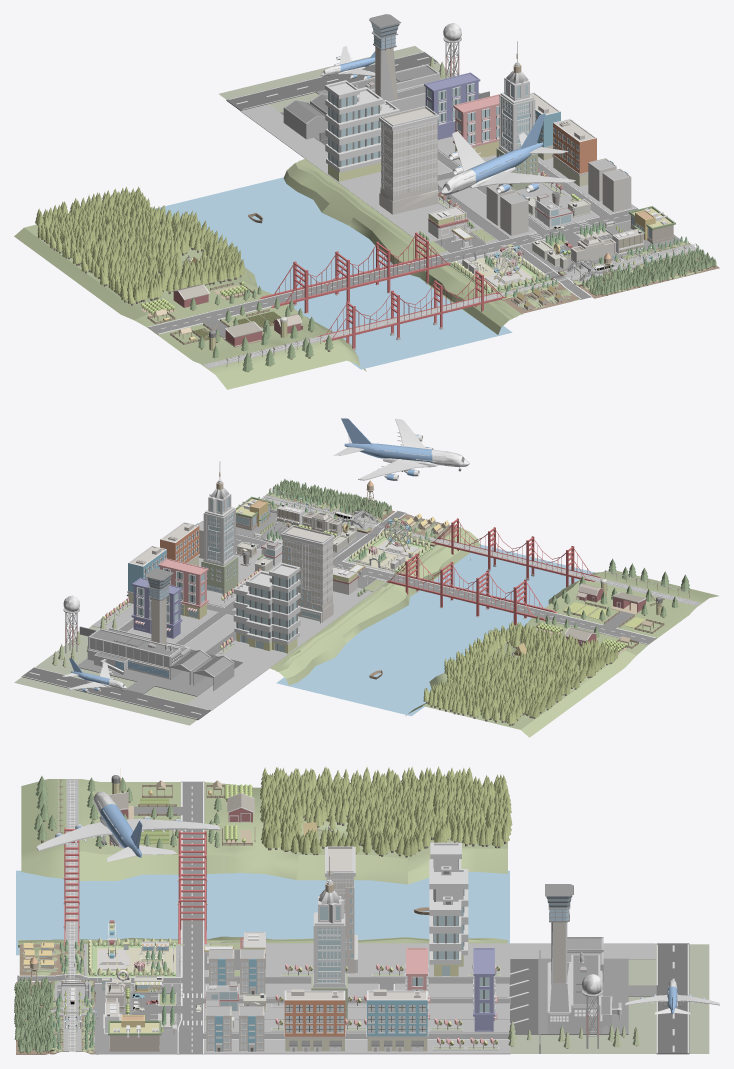
The model's file is city.glb.
3 views of the same model, one above another, from view 1: azimuth 30°, elevation 25°; view 2: azimuth 150°, elevation 25°; view 3: azimuth 270°, elevation 25° (orthographic). The views are drawn at different scales.
Bounding box in the file's own units: 292 × 93.1 × 318.
